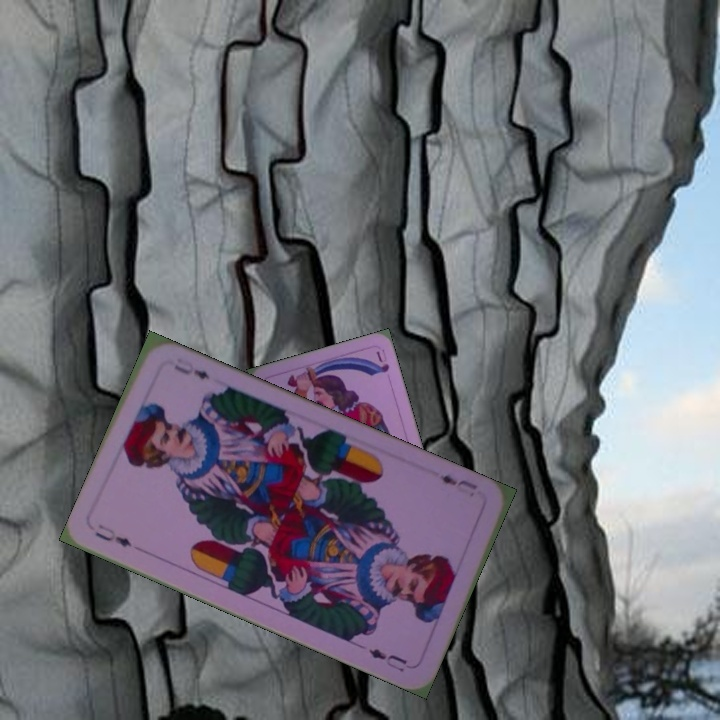EU: (91, 520, 135, 550), (435, 470, 481, 494)
